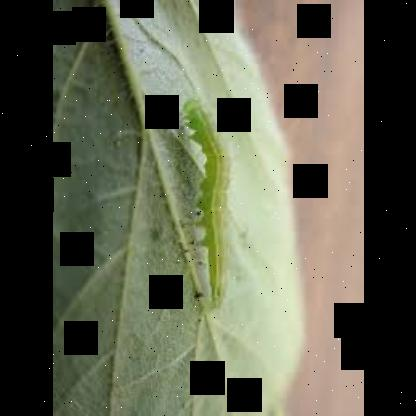oruga: (172, 95, 240, 319)
